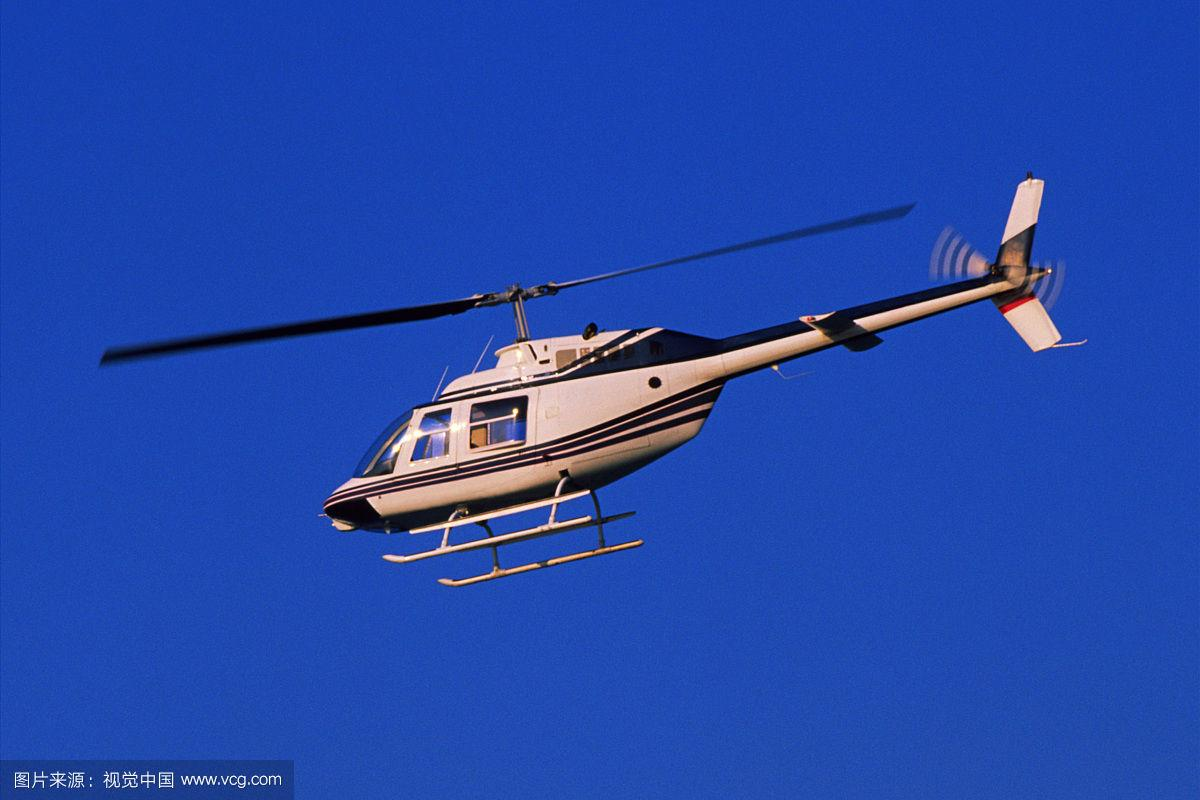airplane: (92, 155, 1103, 639)
